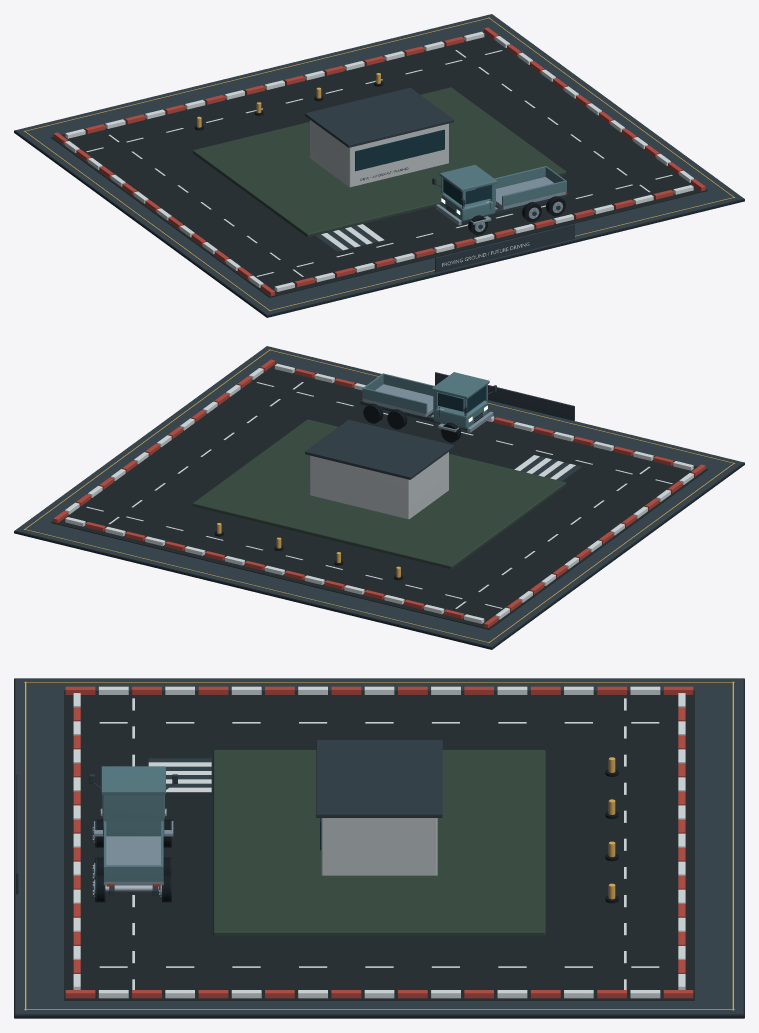
Rendered from proving-ground.glb.
3 renders of one model, top to bottom at view 1: azimuth 30°, elevation 25°; view 2: azimuth 150°, elevation 25°; view 3: azimuth 270°, elevation 25°, orthographic. The views are drawn at different scales.
Visible parts, largest first — view 1: proving_ground_Road_Asphalt, proving_ground_Workshop_Epoxy, proving_ground_Landscape, proving_ground_Enamel_Graphite, proving_ground_Label_White, proving_ground_Emergency_Stop, proving_ground_Enamel_Pearl, proving_ground_Truck_Petrol, proving_ground_Cast_Base, proving_ground_Display_Glass, proving_ground_Safety_Amber, proving_ground_Brushed_Aluminium (+1 smaller); view 2: proving_ground_Road_Asphalt, proving_ground_Workshop_Epoxy, proving_ground_Landscape, proving_ground_Enamel_Graphite, proving_ground_Label_White, proving_ground_Enamel_Pearl, proving_ground_Emergency_Stop, proving_ground_Truck_Petrol, proving_ground_Cast_Base, proving_ground_Safety_Amber, proving_ground_Rubber_Seal, proving_ground_Brushed_Aluminium (+1 smaller); view 3: proving_ground_Road_Asphalt, proving_ground_Workshop_Epoxy, proving_ground_Landscape, proving_ground_Enamel_Graphite, proving_ground_Label_White, proving_ground_Emergency_Stop, proving_ground_Enamel_Pearl, proving_ground_Truck_Petrol, proving_ground_Cast_Base, proving_ground_Safety_Amber, proving_ground_Brushed_Aluminium, proving_ground_Rubber_Seal.
Part boxes in pixels (left/top/right/bottom): proving_ground_Road_Asphalt: left=51, top=31, right=707, bottom=297; proving_ground_Workshop_Epoxy: left=15, top=14, right=743, bottom=314; proving_ground_Landscape: left=192, top=87, right=566, bottom=237; proving_ground_Enamel_Graphite: left=305, top=87, right=574, bottom=272; proving_ground_Label_White: left=65, top=31, right=693, bottom=291; proving_ground_Emergency_Stop: left=53, top=27, right=705, bottom=296; proving_ground_Enamel_Pearl: left=310, top=120, right=448, bottom=187; proving_ground_Truck_Petrol: left=439, top=165, right=566, bottom=221; proving_ground_Cast_Base: left=14, top=14, right=744, bottom=317; proving_ground_Display_Glass: left=355, top=129, right=490, bottom=204; proving_ground_Safety_Amber: left=24, top=17, right=734, bottom=311; proving_ground_Brushed_Aluminium: left=436, top=177, right=565, bottom=231; proving_ground_Road_Asphalt: left=51, top=363, right=707, bottom=629; proving_ground_Workshop_Epoxy: left=15, top=346, right=743, bottom=646; proving_ground_Landscape: left=192, top=419, right=566, bottom=569; proving_ground_Enamel_Graphite: left=305, top=372, right=581, bottom=481; proving_ground_Label_White: left=65, top=363, right=693, bottom=623; proving_ground_Enamel_Pearl: left=310, top=452, right=448, bottom=519; proving_ground_Emergency_Stop: left=53, top=359, right=705, bottom=628; proving_ground_Truck_Petrol: left=362, top=372, right=489, bottom=428; proving_ground_Cast_Base: left=14, top=346, right=744, bottom=649; proving_ground_Safety_Amber: left=24, top=349, right=734, bottom=643; proving_ground_Rubber_Seal: left=214, top=403, right=482, bottom=580; proving_ground_Brushed_Aluminium: left=363, top=384, right=493, bottom=432; proving_ground_Road_Asphalt: left=64, top=690, right=694, bottom=1000; proving_ground_Workshop_Epoxy: left=15, top=678, right=743, bottom=1014; proving_ground_Landscape: left=213, top=750, right=545, bottom=936; proving_ground_Enamel_Graphite: left=16, top=740, right=442, bottom=895; proving_ground_Label_White: left=73, top=686, right=685, bottom=998; proving_ground_Emergency_Stop: left=65, top=686, right=693, bottom=998; proving_ground_Enamel_Pearl: left=321, top=818, right=437, bottom=875; proving_ground_Truck_Petrol: left=101, top=766, right=165, bottom=881; proving_ground_Cast_Base: left=14, top=678, right=744, bottom=1018; proving_ground_Safety_Amber: left=24, top=681, right=734, bottom=1010; proving_ground_Brushed_Aluminium: left=93, top=808, right=173, bottom=896; proving_ground_Rubber_Seal: left=95, top=769, right=618, bottom=903.
Size of the model in its own units: 24 by 2.47 by 22.
